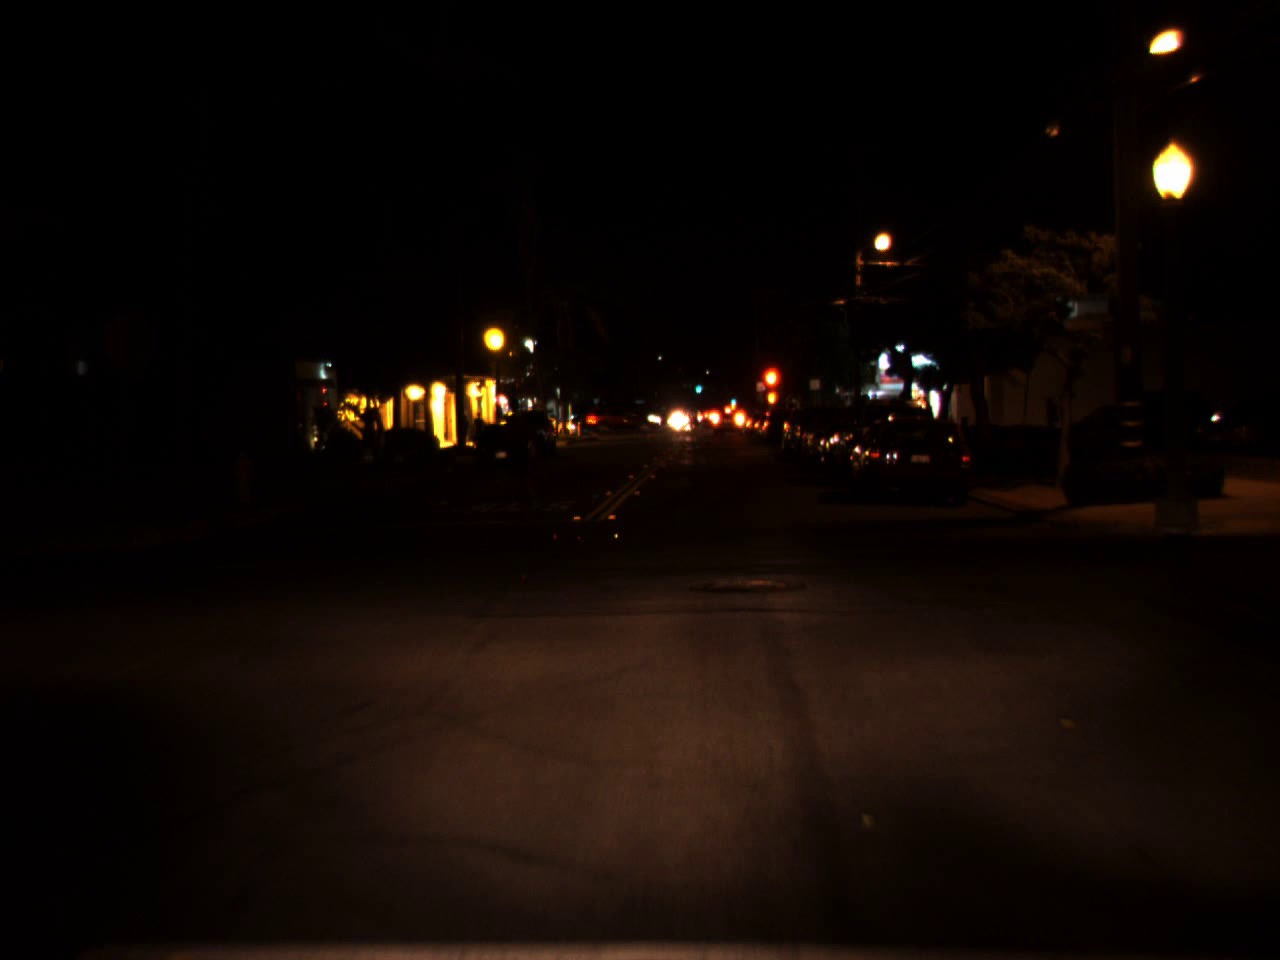go: (693, 379, 702, 394), (729, 393, 736, 405)
stop: (760, 363, 782, 417)
